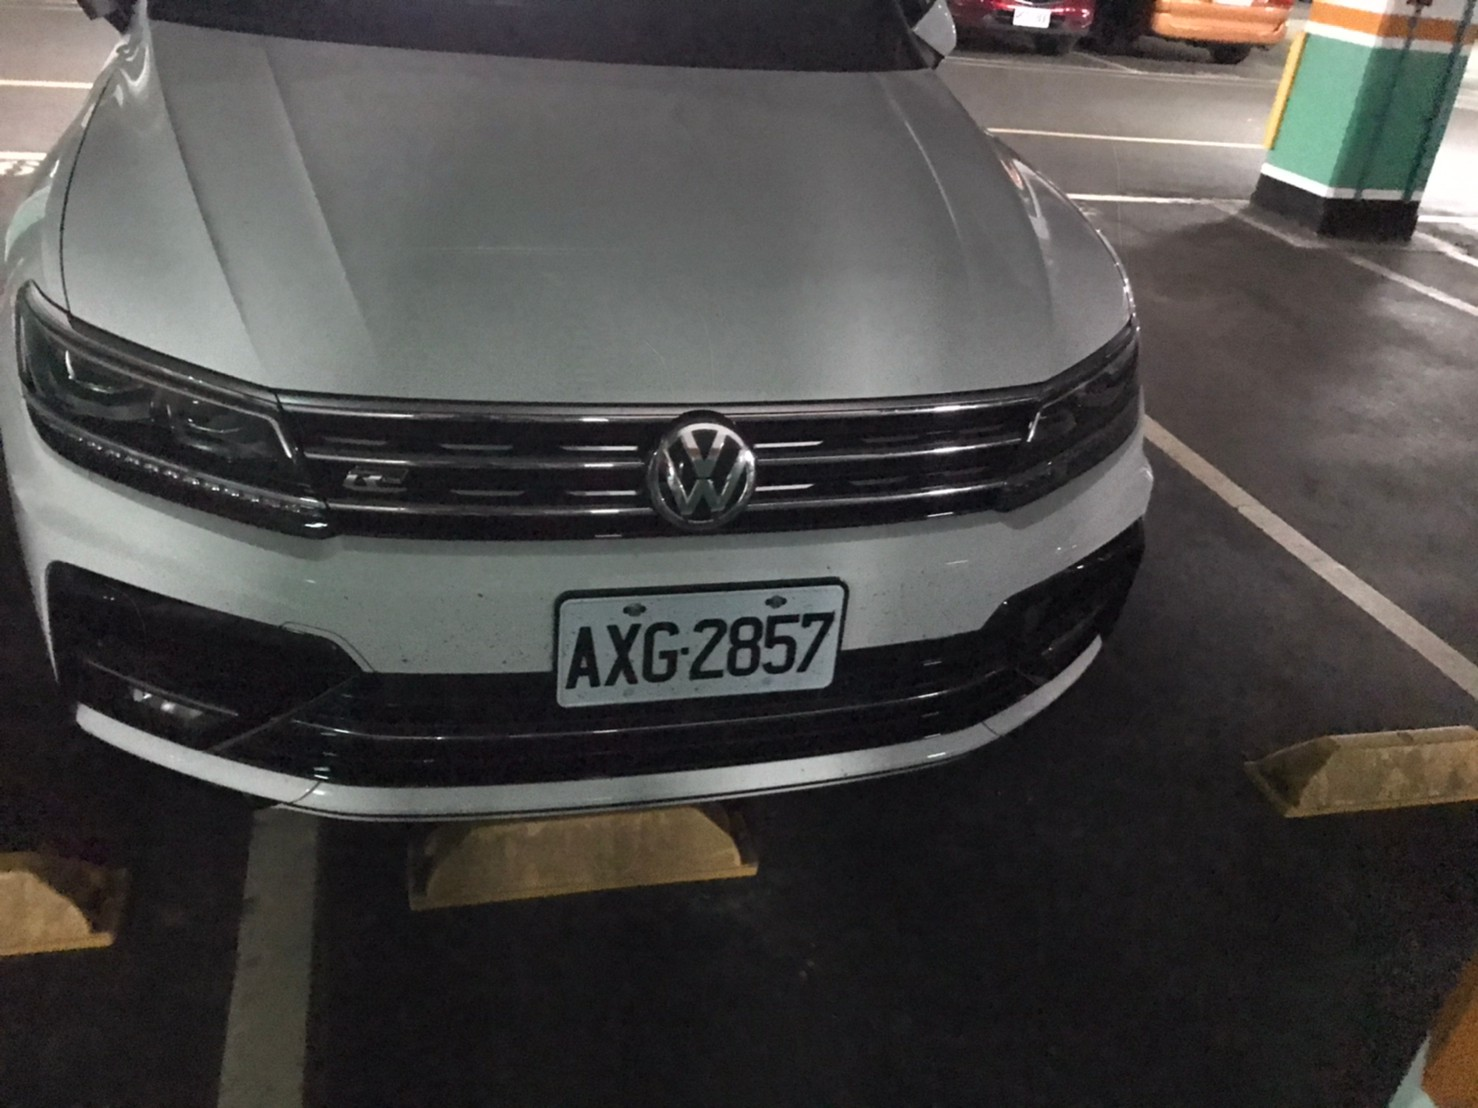LP: (549, 585, 843, 703)
